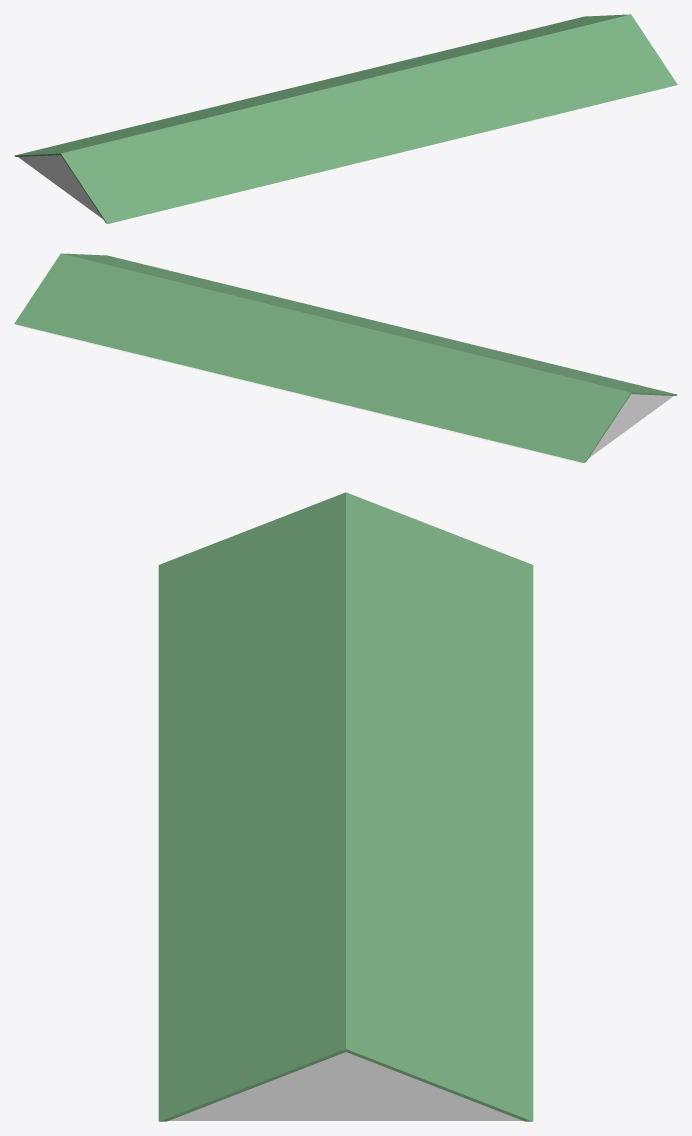
File: aaa.fbx
3 renders of one model, top to bottom at view 1: azimuth 30°, elevation 25°; view 2: azimuth 150°, elevation 25°; view 3: azimuth 270°, elevation 25°, orthographic. The views are drawn at different scales.
Visible parts, largest first — view 1: Gengon003, Gengon001; view 2: Gengon003, Gengon001; view 3: Gengon003, Gengon001.
Boxes of the visible parts, left/top/right/bottom form: Gengon003: left=14, top=14, right=677, bottom=223; Gengon001: left=18, top=86, right=674, bottom=224; Gengon003: left=14, top=253, right=677, bottom=462; Gengon001: left=17, top=325, right=673, bottom=463; Gengon003: left=158, top=492, right=533, bottom=1121; Gengon001: left=169, top=1052, right=522, bottom=1120.
Size of the model in its own units: 545 by 155 by 34.1.
